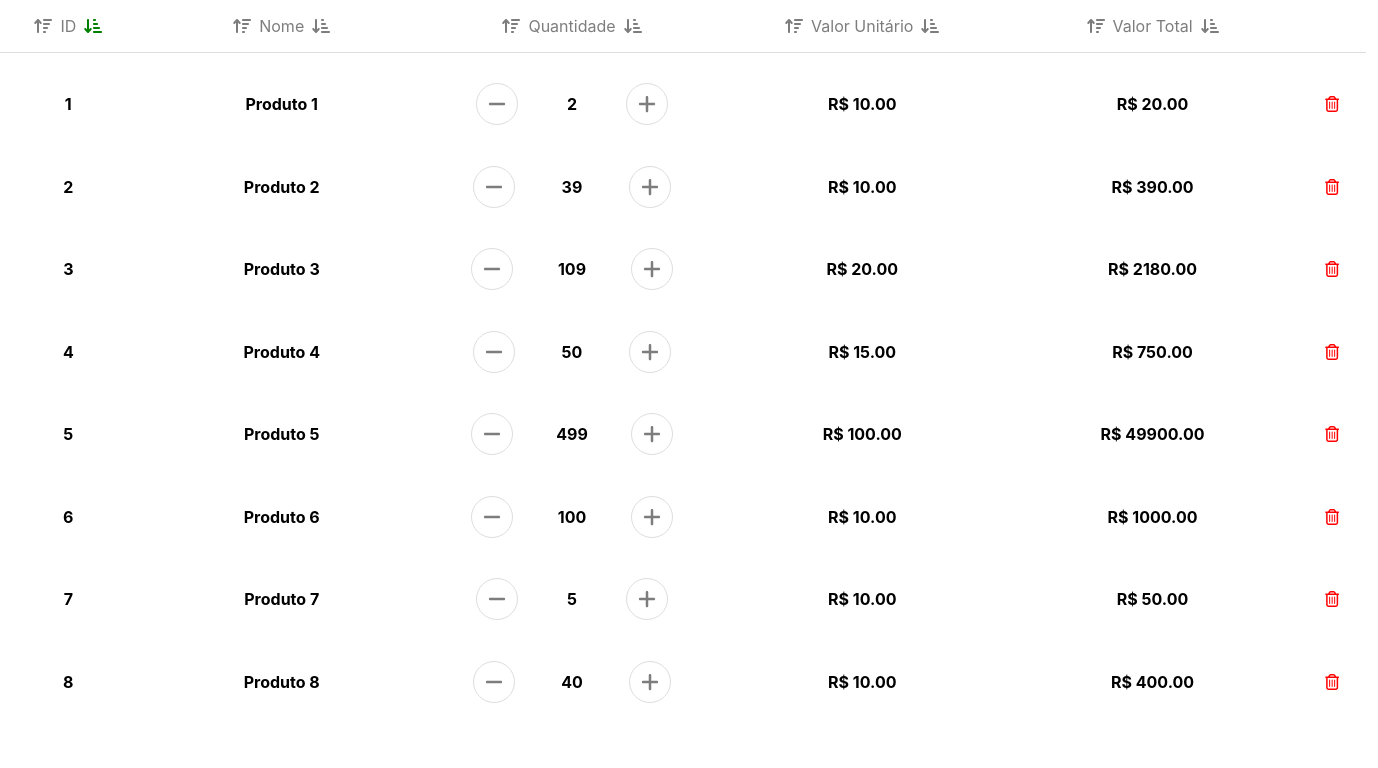
Test case: quantity component › is decremented by one after minus button is clicked on
This screenshot has width=1378, height=768.
Check: the heading "2" is shown, box x1=567 y1=94 x2=577 y2=114
Click the picture named "minus" next to "Produto 1" at [497, 104], box x1=476 y1=83 x2=518 y2=125
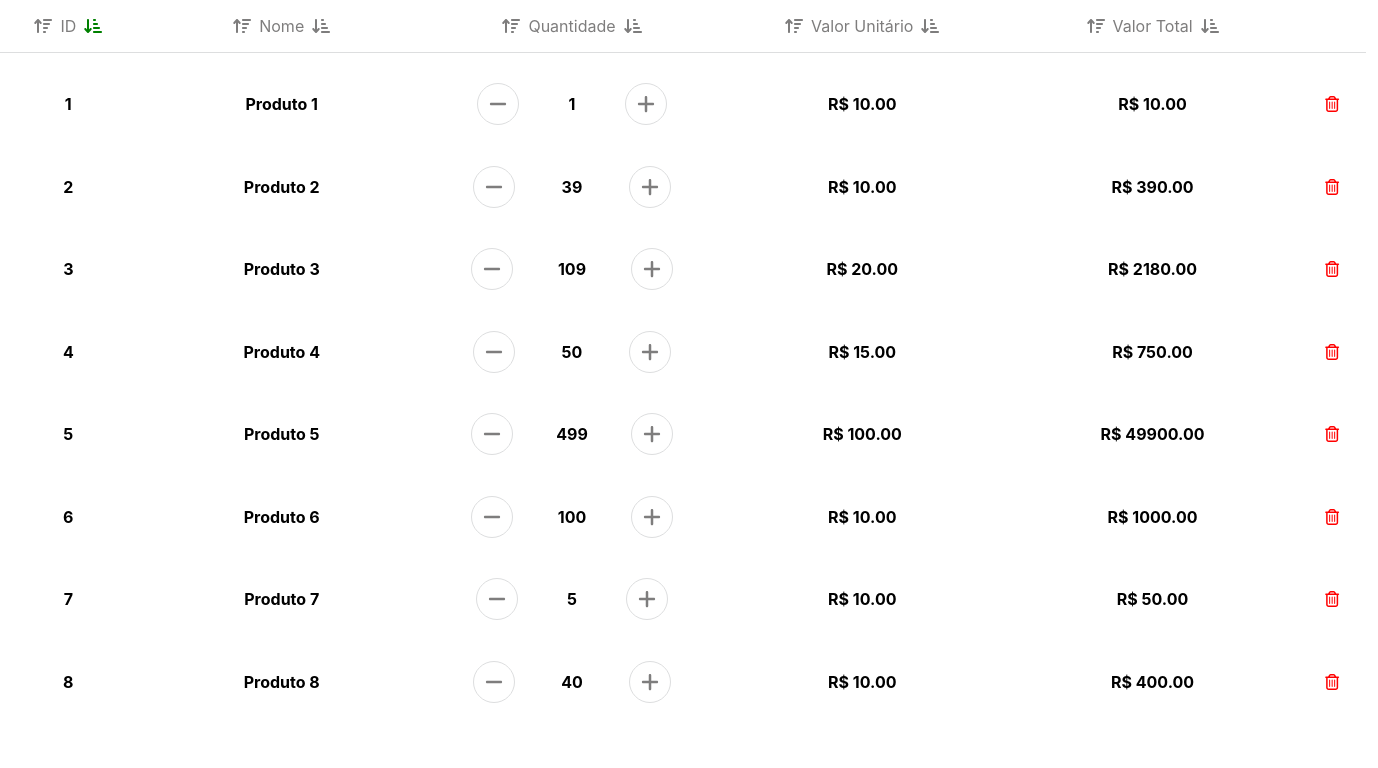
Check: the heading "1" is shown, box x1=568 y1=94 x2=575 y2=114
